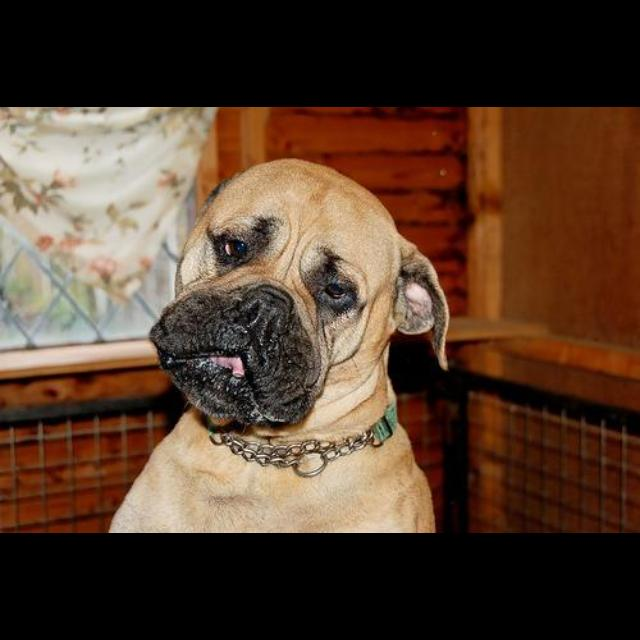bullmastiff: (105, 157, 451, 533)
